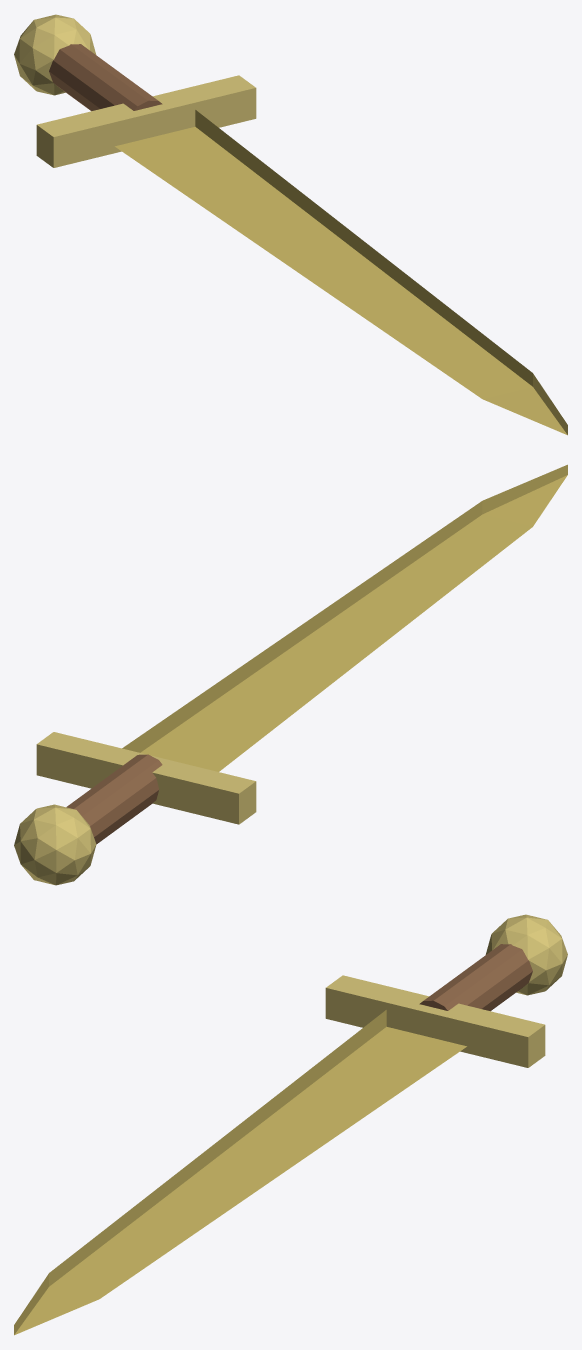
File: long_golden_broadsword.glb
3 renders of one model, top to bottom at view 1: azimuth 30°, elevation 25°; view 2: azimuth 150°, elevation 25°; view 3: azimuth 330°, elevation 25°, orthographic.
Visible parts, largest first — view 1: sword_0_0, sword_0_1, sword_0_2, sword_0_3; view 2: sword_0_0, sword_0_1, sword_0_3, sword_0_2; view 3: sword_0_0, sword_0_1, sword_0_2, sword_0_3.
Boxes of the visible parts, x1,y1,x2,y2 form: sword_0_0: [115, 110, 567, 435]; sword_0_1: [36, 75, 256, 167]; sword_0_2: [49, 44, 162, 111]; sword_0_3: [14, 14, 96, 95]; sword_0_0: [122, 464, 567, 771]; sword_0_1: [36, 732, 256, 824]; sword_0_3: [14, 804, 96, 885]; sword_0_2: [66, 754, 162, 844]; sword_0_0: [14, 1010, 466, 1335]; sword_0_1: [325, 975, 545, 1067]; sword_0_2: [419, 944, 532, 1011]; sword_0_3: [485, 914, 567, 995].
Bounding box in the file's own units: 1.23 × 0.4346 × 5.62.
